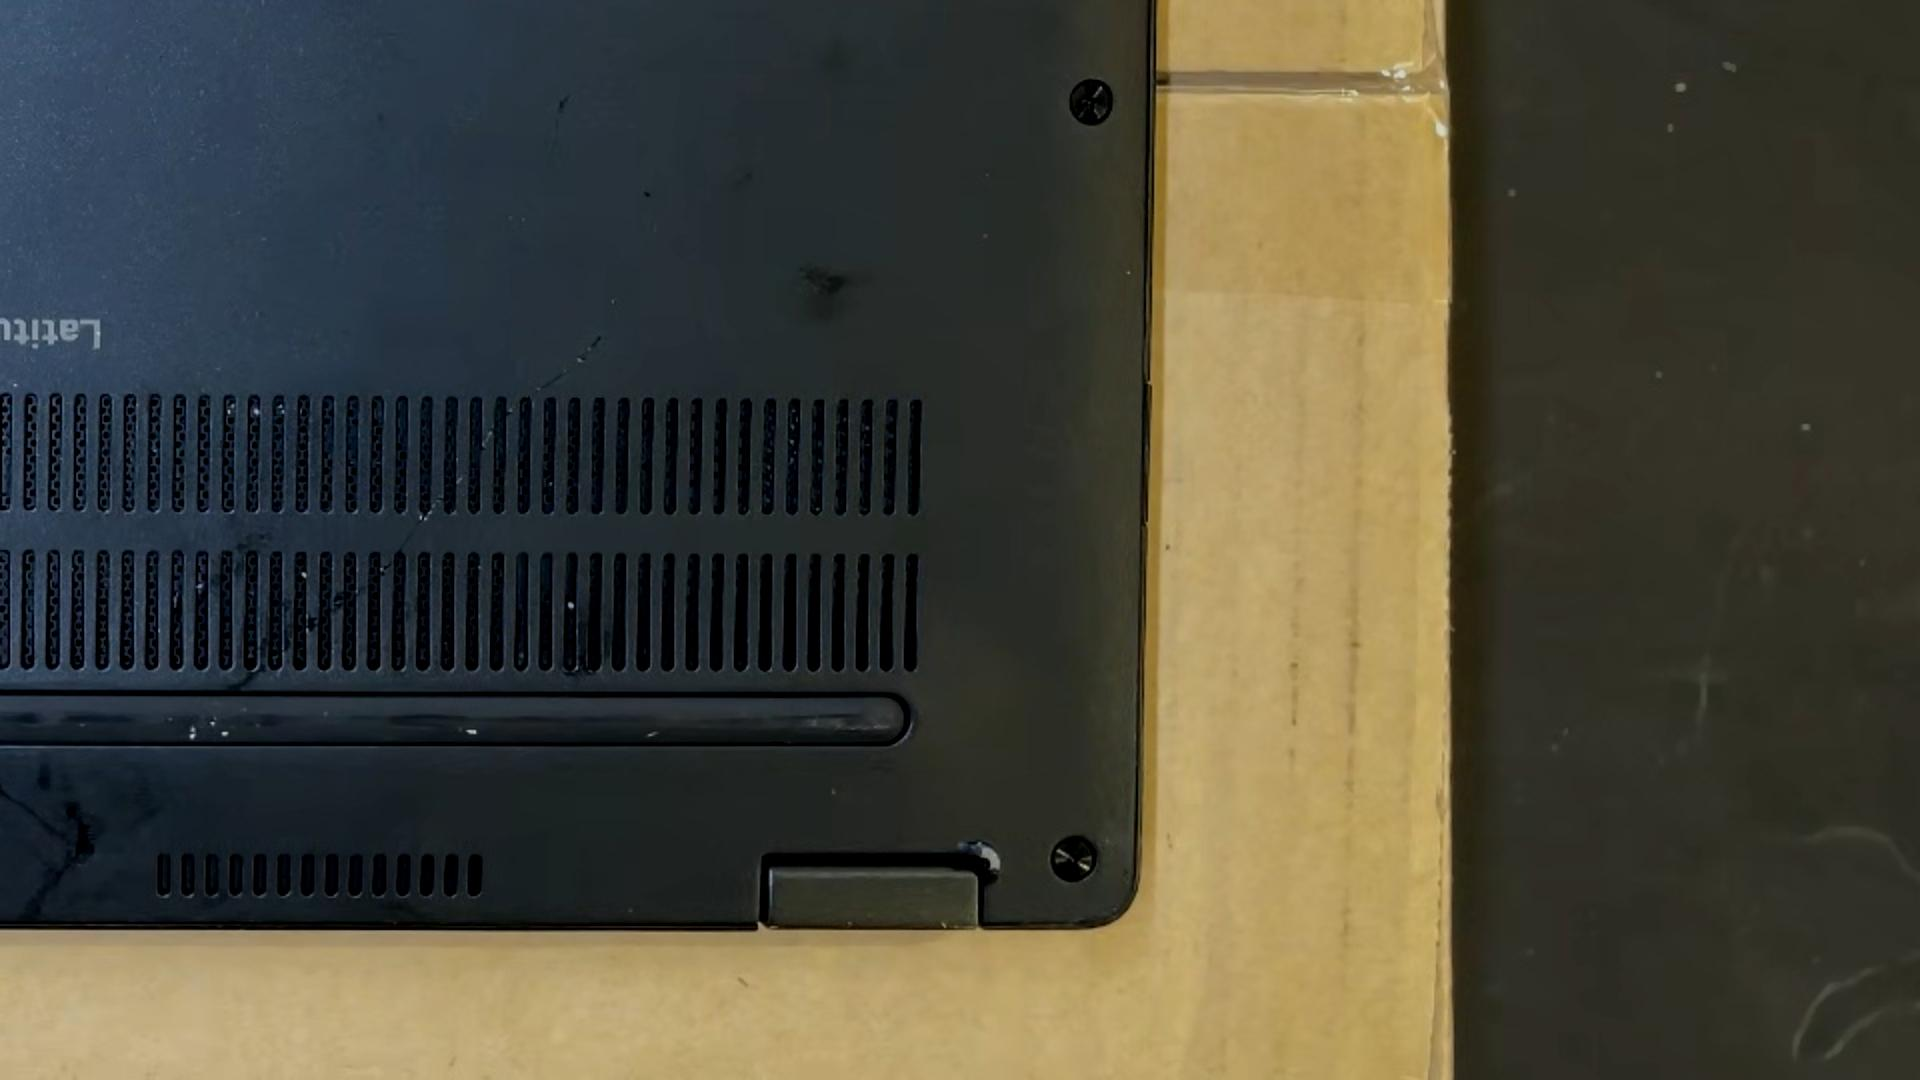chip: (564, 599, 576, 612), (644, 190, 654, 200), (227, 404, 235, 415), (277, 404, 285, 415), (299, 570, 309, 579), (252, 406, 260, 417), (12, 382, 20, 388)
scratches: (225, 331, 607, 692), (555, 91, 572, 115), (462, 728, 479, 736), (189, 724, 196, 740), (219, 729, 231, 738), (646, 731, 659, 738), (208, 719, 216, 728)
